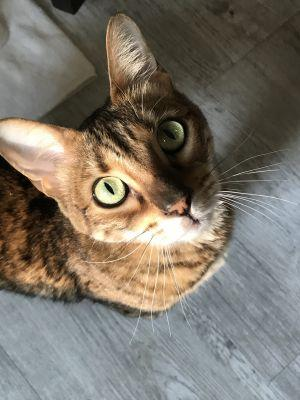bengal: (1, 4, 240, 267)
